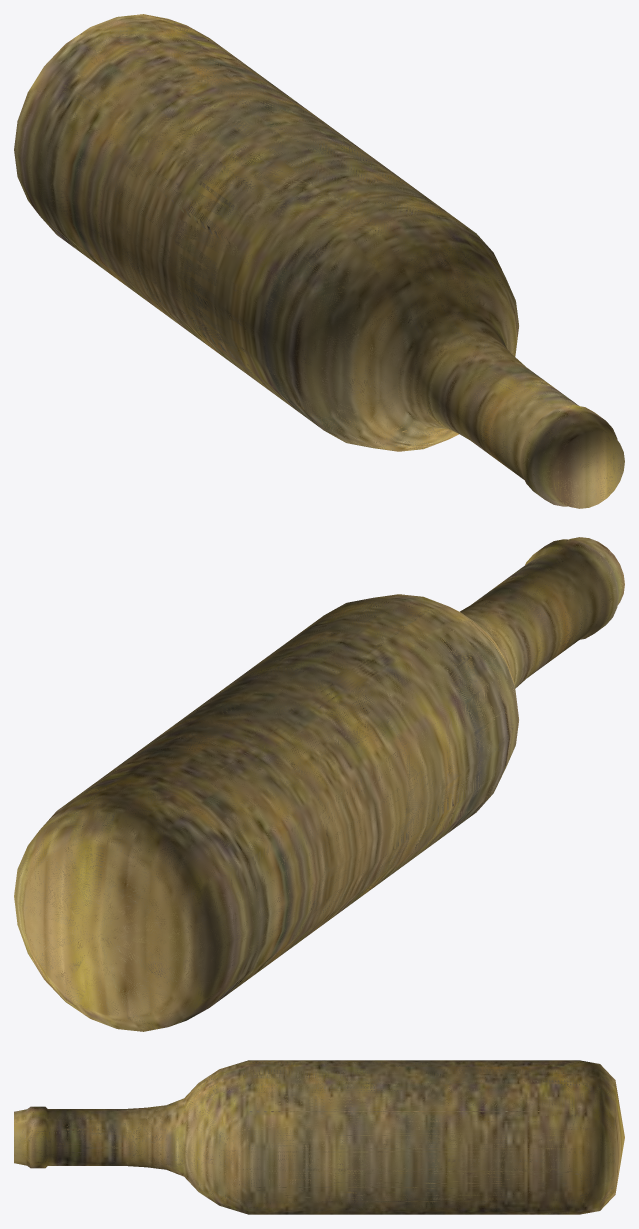
Rendered from model_scale.obj.
3 views of the same model, one above another, from view 1: azimuth 30°, elevation 25°; view 2: azimuth 150°, elevation 25°; view 3: azimuth 270°, elevation 25° (orthographic). The views are drawn at different scales.
Visible parts, largest first — view 1: mesh1_mesh1-geometry; view 2: mesh1_mesh1-geometry; view 3: mesh1_mesh1-geometry.
Boxes of the visible parts, x1,y1,x2,y2 form: mesh1_mesh1-geometry: (14,14,624,508); mesh1_mesh1-geometry: (14,537,624,1031); mesh1_mesh1-geometry: (14,1060,624,1214).
Size of the model in its own units: 0.0714 by 0.0714 by 0.2818.
